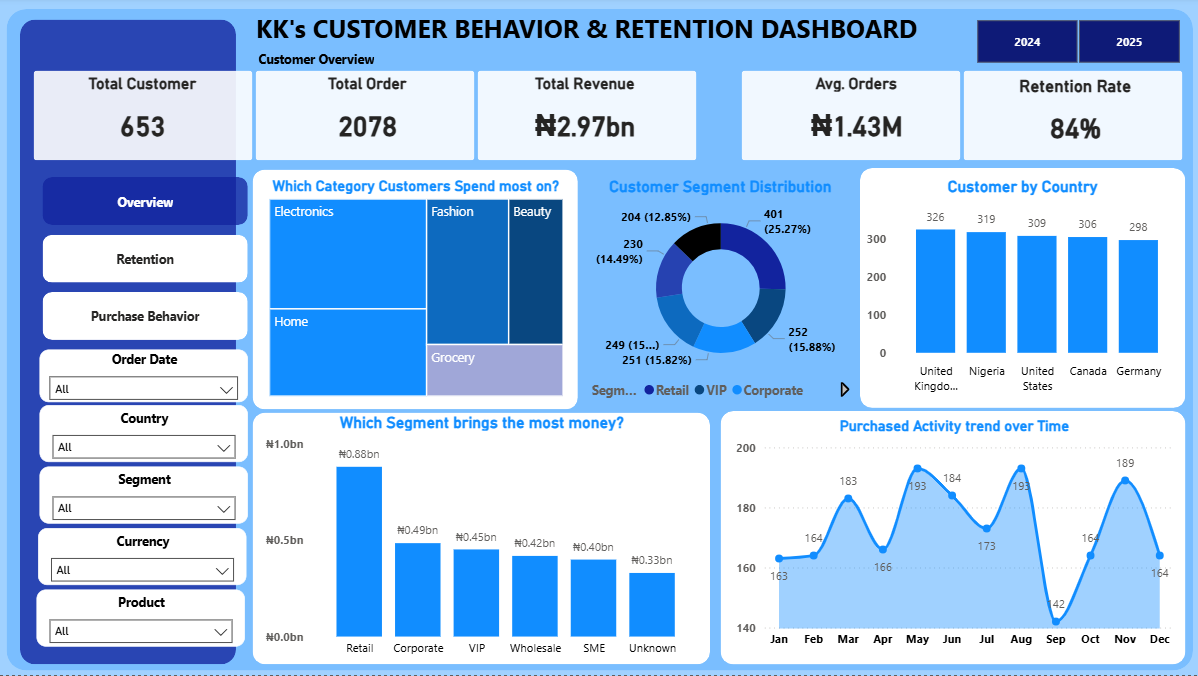

Layout of this report page (visuals, bound fields, positions):
{"tool":"powerbi","page":{"name":"Overview","canvas":[1280,720],"ordinal":0},"visuals":[{"type":"shape","box":[11.2,12.7,1260,702.5],"z":0},{"type":"shape","box":[39.2,77.9,232.6,95.6],"z":0,"group":"g1"},{"type":"shape","box":[25.5,23.9,229.4,685],"z":1000},{"type":"shape","box":[275,77.9,232.6,95.6],"z":1000,"group":"g1"},{"type":"group","id":"g1","title":"Group 1","box":[39.2,77.9,1220.2,95.6],"z":2000},{"type":"shape","box":[510.7,77.9,232.6,95.6],"z":2000,"group":"g1"},{"type":"shape","box":[791.1,77.9,232.6,95.6],"z":3000,"group":"g1"},{"type":"shape","box":[272.4,183.2,345.7,254.9],"z":3000},{"type":"shape","box":[1026.8,77.9,232.6,95.6],"z":4000,"group":"g1"},{"type":"shape","box":[272.4,441.2,485.8,267.6],"z":4000},{"type":"shape","box":[769.4,439.6,493.8,269.2],"z":5000},{"type":"shape","box":[917.5,181.6,345.7,254.9],"z":6000},{"type":"pageNavigator","box":[49.4,191.2,218.2,175.2],"z":7000},{"type":"card","title":"Total Customer","fields":{"Values":["Calender.Total Customer"]},"box":[45.6,81.1,218.2,89.2],"z":7003,"group":"g1"},{"type":"shape","box":[275.6,14.3,960.5,62.1],"z":8000},{"type":"shape","box":[234.2,46.2,211.9,38.2],"z":9000},{"type":"card","title":"Total Order","fields":{"Values":["Calender.Total Orders"]},"box":[285.1,81.2,218.2,89.2],"z":10000},{"type":"card","title":"Total Revenue","fields":{"Values":["Calender.Total Revenue"]},"box":[516.1,81.2,218.2,89.2],"z":11000},{"type":"card","title":"Avg. Orders ","fields":{"Values":["Calender.Average Orders"]},"box":[804.4,81.2,218.2,89.2],"z":12000},{"type":"card","title":"Retention Rate","fields":{"Values":["Calender.Retention Customer"]},"box":[1037,84.4,218.2,86],"z":13000},{"type":"donutChart","title":" Customer Segment Distribution","fields":{"Category":["Customer Transaction (2).Segment"],"Y":["Calender.Total Customer"]},"box":[627.6,191.2,283.5,245.3],"z":14000},{"type":"columnChart","title":"Which Segment brings the most money?","fields":{"Y":["Calender.Total Revenue"],"Category":["Customer Transaction (2).Segment"]},"box":[280.4,441.2,471.5,267.6],"z":15000},{"type":"lineChart","title":"Purchased Activity trend over Time","fields":{"Y":["Calender.Total Orders"],"Category":["Calender.Month Name"]},"box":[780.5,446,474.7,253.3],"z":16000},{"type":"columnChart","title":"Customer by Country","fields":{"Category":["Customer Transaction (2).Country"],"Y":["Calender.Total Customer"]},"box":[919.1,191.2,342.5,237.3],"z":17000},{"type":"treemap","title":"Which Category Customers Spend most on?","fields":{"Values":["Calender.Total Customer"],"Group":["Customer Transaction (2).Product_Category"]},"box":[285.1,191.2,321.8,237.3],"z":18000},{"type":"slicer","title":"Order Date","fields":{"Values":["Customer Transaction (2).Device_Type"]},"box":[46.2,374.3,221.4,55.8],"z":19000},{"type":"slicer","title":"Country","fields":{"Values":["Customer Transaction (2).Country"]},"box":[46.2,433.3,221.4,60.5],"z":20000},{"type":"slicer","title":"Segment","fields":{"Values":["Customer Transaction (2).Segment"]},"box":[46.2,498.6,221.4,60.5],"z":21000},{"type":"slicer","title":"Currency","fields":{"Values":["Customer Transaction (2).Currency"]},"box":[44.6,563.9,221.4,60.5],"z":22000},{"type":"slicer","title":"Product","fields":{"Values":["Customer Transaction (2).Product_Name"]},"box":[43,629.2,221.4,60.5],"z":23000},{"type":"slicer","fields":{"Values":["Calender.Year"]},"box":[1016.3,17.5,264.4,58.9],"z":24000}]}

Visuals, with their boxes in screenshot pixels (x1, y1, x2, y2), scaled from the page's 1280x720 canvas onto the 1198x676 screenshot:
shape: (10,12,1190,671)
shape: (37,73,254,163)
shape: (24,22,239,666)
shape: (257,73,475,163)
"Group 1" group: (37,73,1179,163)
shape: (478,73,696,163)
shape: (740,73,958,163)
shape: (255,172,579,411)
shape: (961,73,1179,163)
shape: (255,414,710,665)
shape: (720,413,1182,665)
shape: (859,171,1182,410)
pageNavigator: (46,180,250,344)
"Total Customer" card: (43,76,247,160)
shape: (258,13,1157,72)
shape: (219,43,418,79)
"Total Order" card: (267,76,471,160)
"Total Revenue" card: (483,76,687,160)
"Avg. Orders " card: (753,76,957,160)
"Retention Rate" card: (971,79,1175,160)
" Customer Segment Distribution" donutChart: (587,180,853,410)
"Which Segment brings the most money?" columnChart: (262,414,704,665)
"Purchased Activity trend over Time" lineChart: (730,419,1175,657)
"Customer by Country" columnChart: (860,180,1181,402)
"Which Category Customers Spend most on?" treemap: (267,180,568,402)
"Order Date" slicer: (43,351,250,404)
"Country" slicer: (43,407,250,464)
"Segment" slicer: (43,468,250,525)
"Currency" slicer: (42,529,249,586)
"Product" slicer: (40,591,247,648)
slicer - Calender.Year: (951,16,1197,72)
